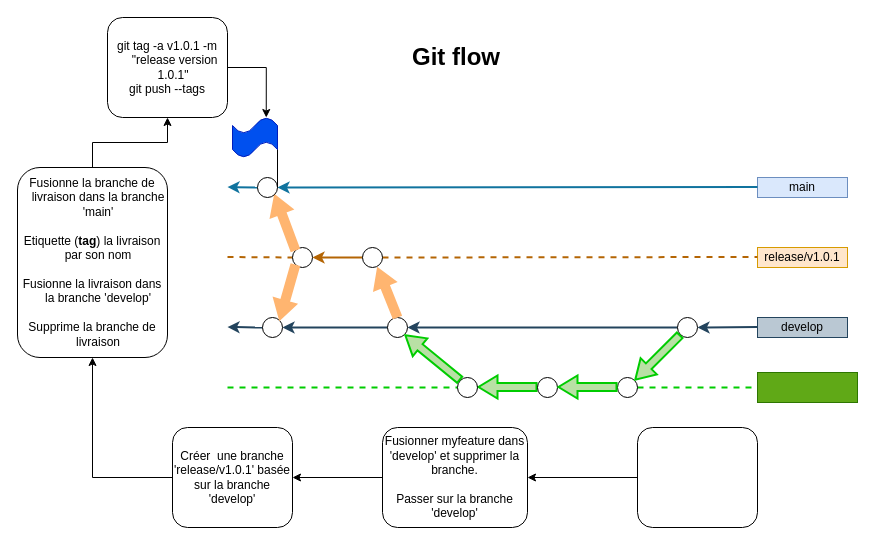
Image size: 875x545. Some labels were removed from this diagram. The centre of each missing label's shape, as x and y in pixels:
feature/myfeature: the point at 807,387
Sur la branche 'develop', créer une branche feature 'feature/myfeature': the point at 697,477
v1.0.1: the point at 255,137
